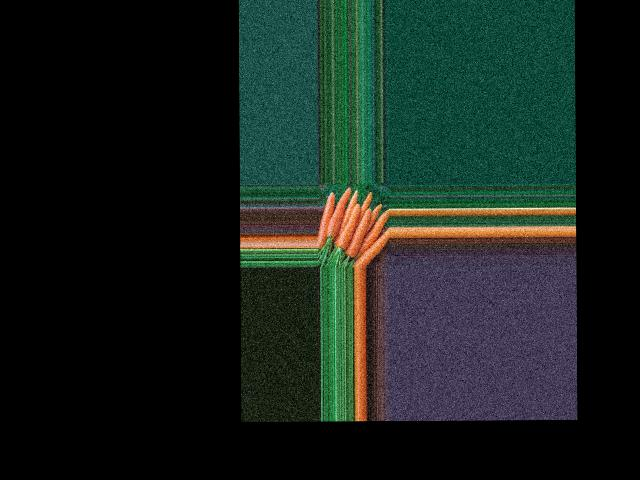carrot: (349, 221, 390, 266)
